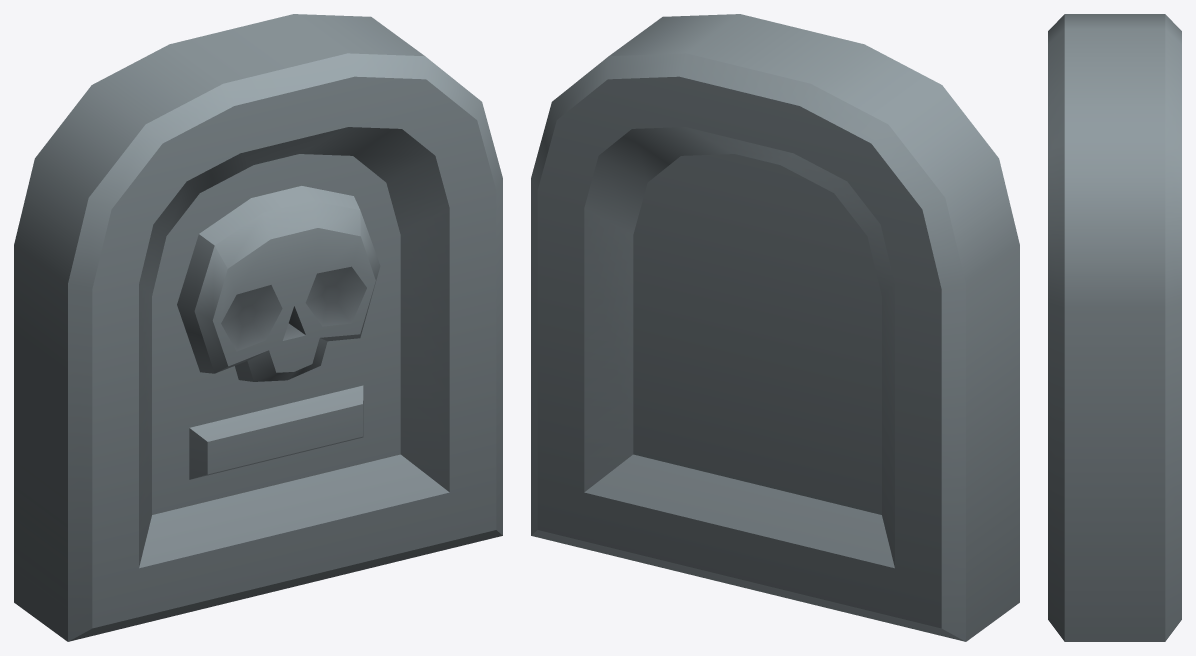
Rendered from gravestone.glb.
The picture shows the model from 3 angles, left to right: view 1: azimuth 30°, elevation 25°; view 2: azimuth 150°, elevation 25°; view 3: azimuth 270°, elevation 25°; orthographic projection. The views are drawn at different scales.
Visible parts, largest first — view 1: gravestone; view 2: gravestone; view 3: gravestone.
Boxes of the visible parts, x1=… form: gravestone: x1=14, y1=14, x2=502, y2=641; gravestone: x1=531, y1=14, x2=1019, y2=641; gravestone: x1=1048, y1=14, x2=1181, y2=641.
Size of the model in its own units: 1.4 by 1.6 by 0.4.
Materials: 1 (1 with a texture image).
